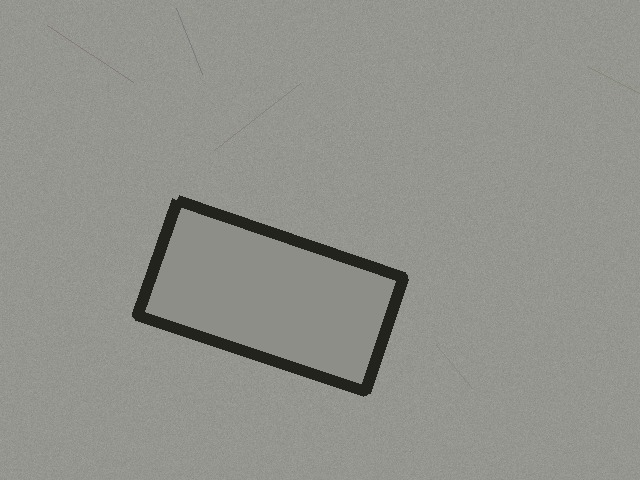parking_area: (137, 200, 403, 391)
